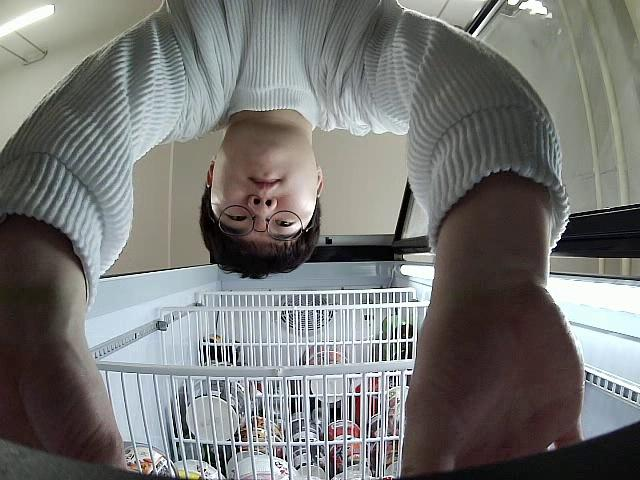00_hand: (404, 301, 584, 479)
